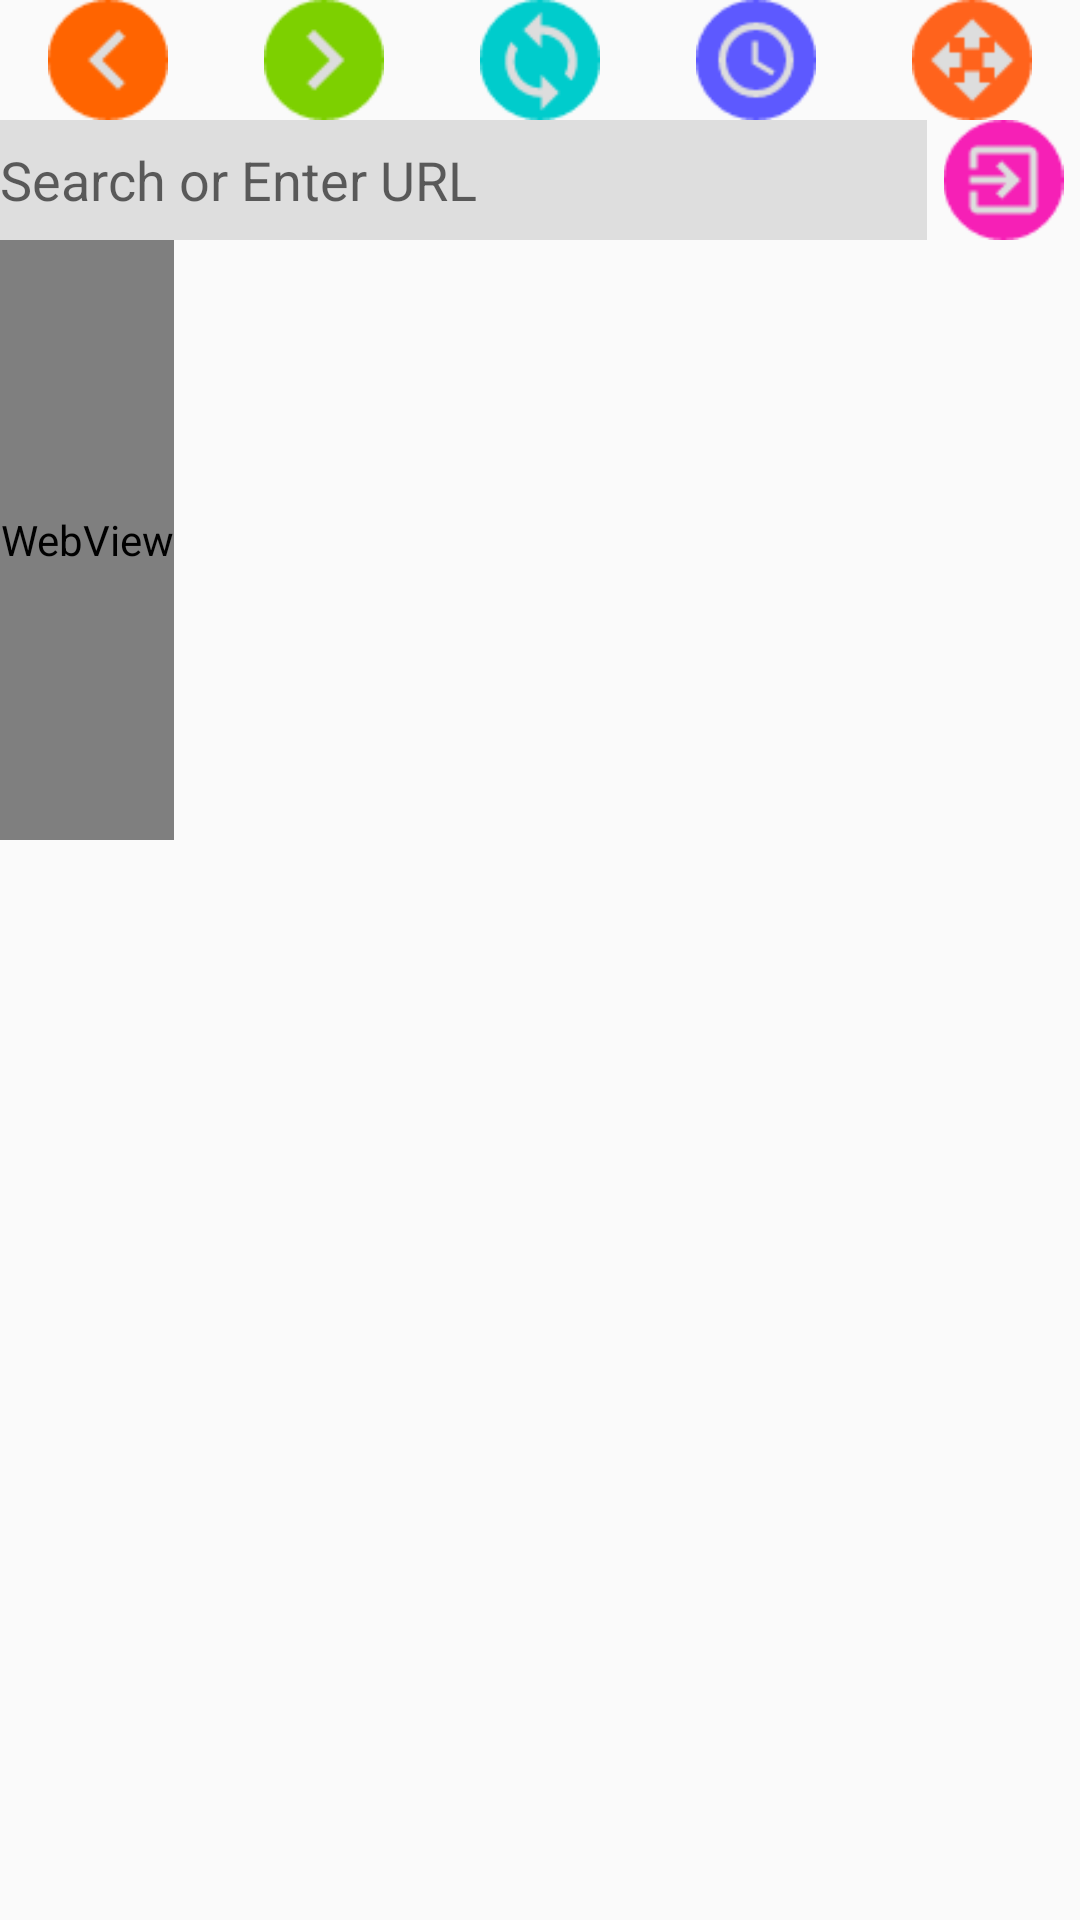

Where to tap for icons on this 1080 x 1920 app screen, as point (x, y):
back: point (108, 60)
forward: point (324, 60)
history: point (756, 60)
move: point (972, 60)
refresh: point (540, 60)
